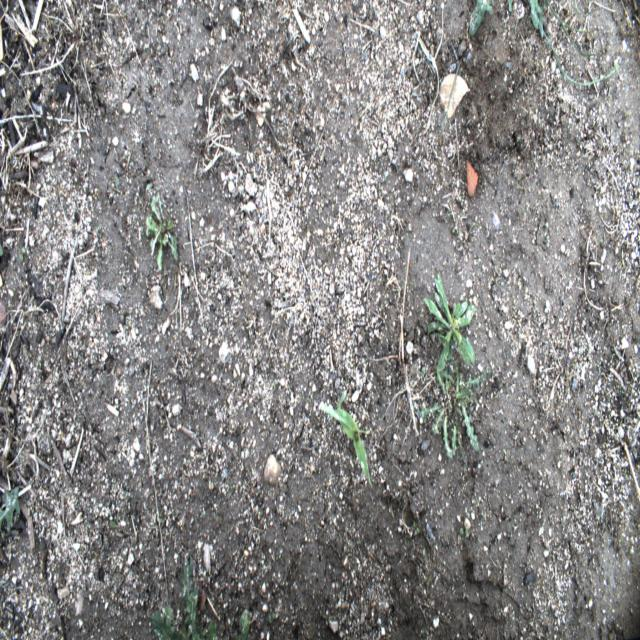crop: (319, 389, 373, 487)
weed: (414, 358, 491, 464), (148, 554, 216, 639), (421, 272, 476, 373), (542, 29, 619, 87), (546, 1, 603, 58), (146, 188, 178, 274), (438, 58, 462, 138), (468, 0, 496, 36), (0, 486, 20, 532), (528, 0, 543, 41), (237, 608, 250, 640), (573, 0, 588, 17), (108, 512, 119, 529), (268, 611, 276, 625), (412, 518, 420, 532), (507, 0, 515, 13), (459, 524, 468, 534), (419, 366, 425, 379)
